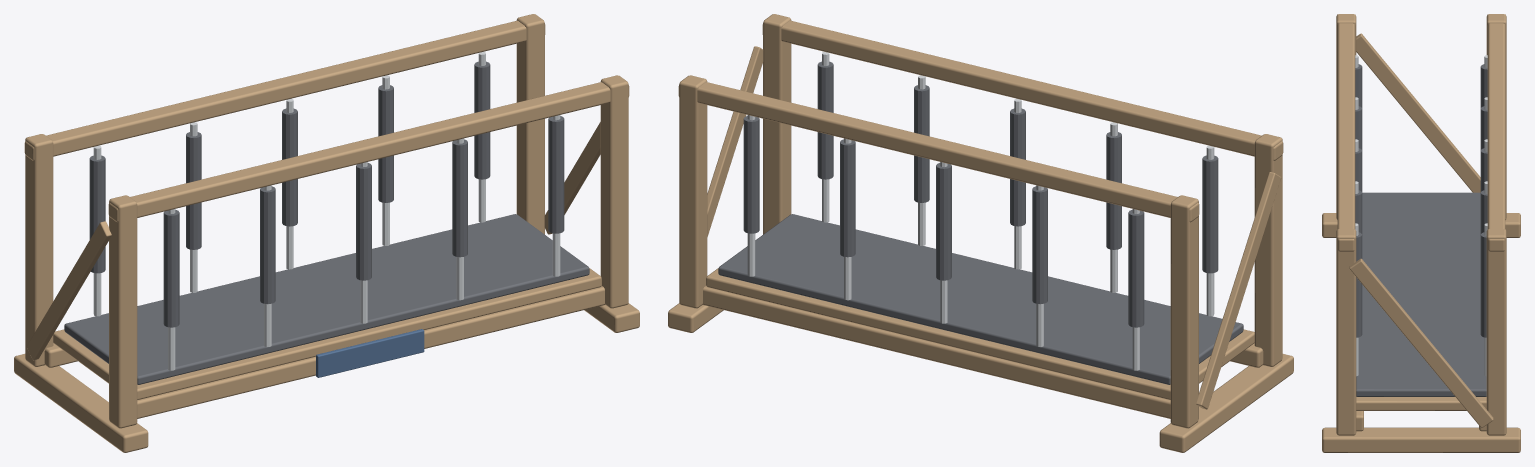
The model's file is beach-surf-and-paddle-kit-freestanding-surfboard-rack-d0402f59__39432.glb.
The picture shows the model from 3 angles, left to right: view 1: azimuth 30°, elevation 25°; view 2: azimuth 150°, elevation 25°; view 3: azimuth 270°, elevation 25°; orthographic projection. The views are drawn at different scales.
Visible parts, largest first — view 1: freestanding-surfboard-rack-timber, freestanding-surfboard-rack-charcoal, freestanding-surfboard-rack-steel, freestanding-surfboard-rack-navy; view 2: freestanding-surfboard-rack-timber, freestanding-surfboard-rack-charcoal, freestanding-surfboard-rack-steel; view 3: freestanding-surfboard-rack-timber, freestanding-surfboard-rack-charcoal, freestanding-surfboard-rack-steel.
Part boxes in pixels (<box>): freestanding-surfboard-rack-timber: <box>14,14,639,452</box>; freestanding-surfboard-rack-charcoal: <box>64,61,589,384</box>; freestanding-surfboard-rack-steel: <box>93,51,560,370</box>; freestanding-surfboard-rack-navy: <box>316,329,424,377</box>; freestanding-surfboard-rack-timber: <box>668,14,1293,452</box>; freestanding-surfboard-rack-charcoal: <box>718,61,1243,384</box>; freestanding-surfboard-rack-steel: <box>747,51,1214,370</box>; freestanding-surfboard-rack-timber: <box>1322,14,1520,452</box>; freestanding-surfboard-rack-charcoal: <box>1355,64,1487,396</box>; freestanding-surfboard-rack-steel: <box>1355,55,1487,376</box>.
Bounding box in the file's own units: 2.44 × 1.08 × 0.8999.
